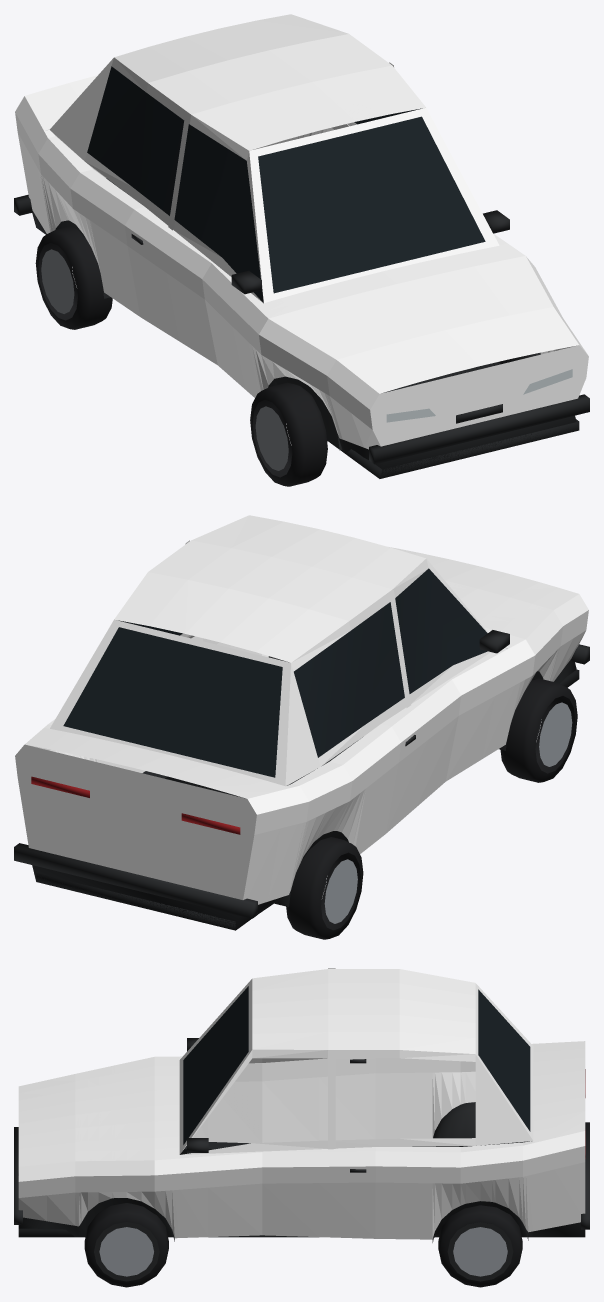
Rendered from saulieu_arbusto.glb.
The picture shows the model from 3 angles, top to bottom: view 1: azimuth 30°, elevation 25°; view 2: azimuth 150°, elevation 25°; view 3: azimuth 270°, elevation 25°; orthographic projection. The views are drawn at different scales.
Parts seen in each view (by area): view 1: Body_Paint, Body_Details, Mount_FrontLeft_Wheel_Details, Mount_RearLeft_Wheel_Details; view 2: Body_Paint, Body_Details, Mount_RearLeft_Wheel_Details, Mount_FrontLeft_Wheel_Details; view 3: Body_Paint, Body_Details, Mount_FrontRight_Wheel_Details, Mount_RearRight_Wheel_Details.
Boxes of the visible parts, bbox=[...] form: Body_Paint: bbox=[15, 14, 588, 449]; Body_Details: bbox=[14, 66, 589, 478]; Mount_FrontLeft_Wheel_Details: bbox=[250, 382, 327, 486]; Mount_RearLeft_Wheel_Details: bbox=[35, 226, 112, 329]; Body_Paint: bbox=[15, 515, 588, 904]; Body_Details: bbox=[14, 568, 589, 930]; Mount_RearLeft_Wheel_Details: bbox=[286, 837, 363, 939]; Mount_FrontLeft_Wheel_Details: bbox=[500, 678, 577, 782]; Body_Paint: bbox=[18, 968, 585, 1239]; Body_Details: bbox=[14, 986, 589, 1242]; Mount_FrontRight_Wheel_Details: bbox=[84, 1203, 168, 1287]; Mount_RearRight_Wheel_Details: bbox=[438, 1205, 522, 1287].
Size of the model in its own units: 1.63 by 1.51 by 3.48.
2 materials, 1 textured.
